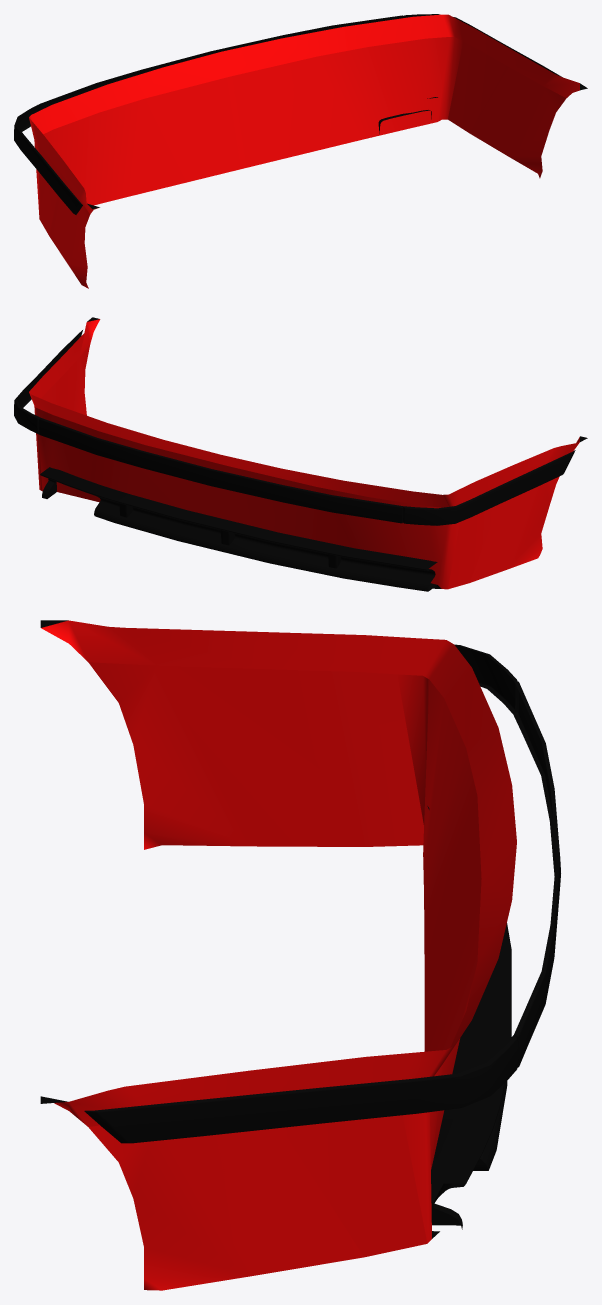
Rendered from BMW_E36_BB02_Trim.fbx.
3 views of the same model, one above another, from view 1: azimuth 30°, elevation 25°; view 2: azimuth 150°, elevation 25°; view 3: azimuth 270°, elevation 25° (orthographic). The views are drawn at different scales.
Visible parts, largest first — view 1: BMW_E36_BB02_Trim; view 2: BMW_E36_BB02_Trim; view 3: BMW_E36_BB02_Trim.
Boxes of the visible parts, x1=… form: BMW_E36_BB02_Trim: x1=14, y1=14, x2=587, y2=288; BMW_E36_BB02_Trim: x1=14, y1=317, x2=587, y2=591; BMW_E36_BB02_Trim: x1=40, y1=620, x2=560, y2=1290.
Size of the model in its own units: 1.65 by 0.3636 by 0.7525.
